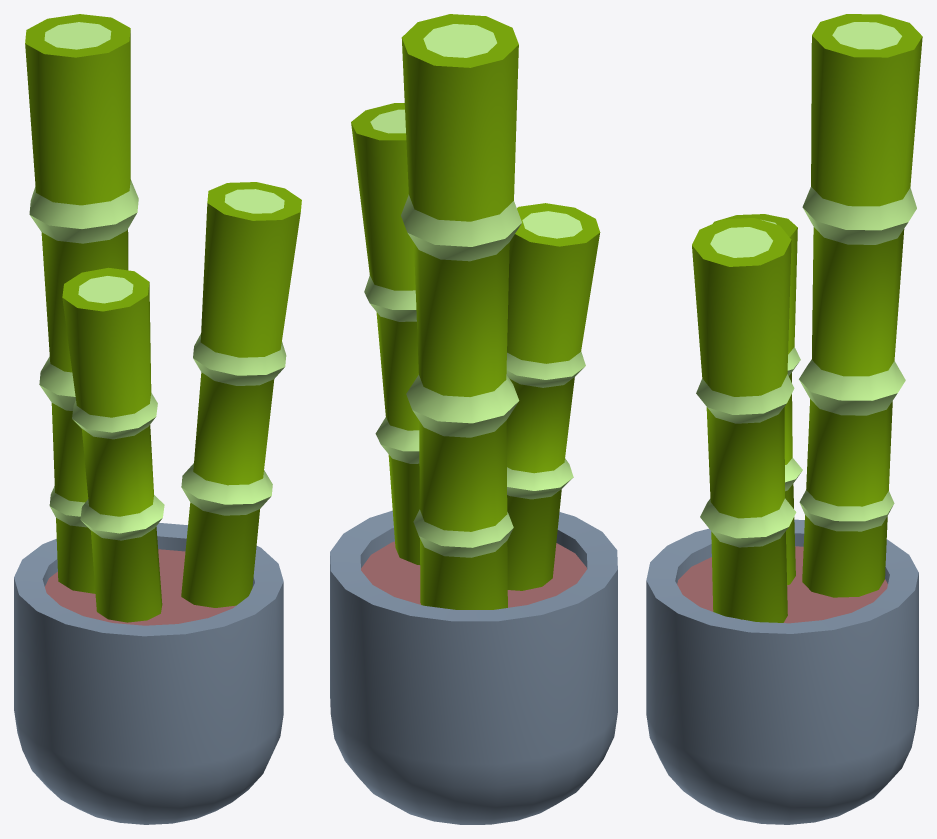
Rendered from Decoration Bamboo.glb.
3 renders of one model, left to right at view 1: azimuth 30°, elevation 25°; view 2: azimuth 150°, elevation 25°; view 3: azimuth 270°, elevation 25°, orthographic. The views are drawn at different scales.
Visible parts, largest first — view 1: Decoration_Bamboo; view 2: Decoration_Bamboo; view 3: Decoration_Bamboo.
Part boxes in pixels (left/top/right/bottom): Decoration_Bamboo: left=14, top=14, right=301, bottom=824; Decoration_Bamboo: left=330, top=14, right=617, bottom=824; Decoration_Bamboo: left=646, top=14, right=922, bottom=824.
Bounding box in the file's own units: 0.9851 × 2.88 × 0.9567.
Materials: 1 (1 with a texture image).
